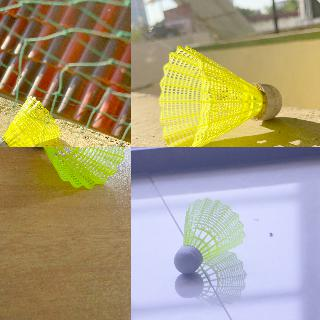shuttlecock: (158, 45, 282, 146), (173, 197, 244, 273), (25, 147, 130, 188), (0, 95, 60, 146)
